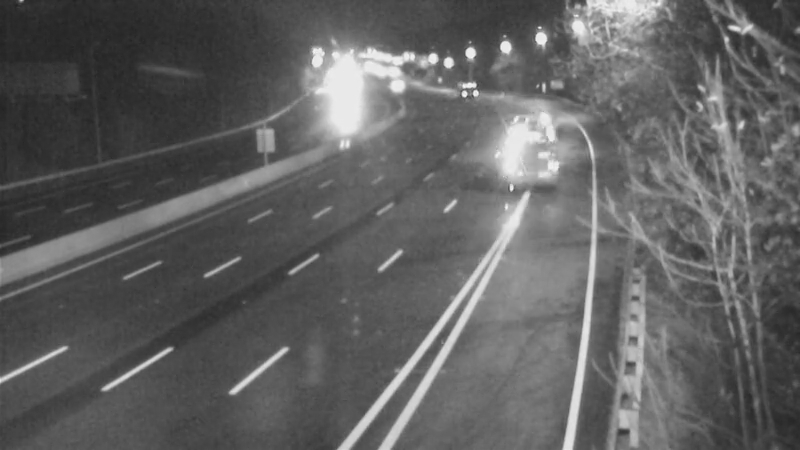vehicle: (374, 59, 424, 109), (438, 62, 488, 112), (505, 122, 555, 172), (316, 81, 366, 131)
